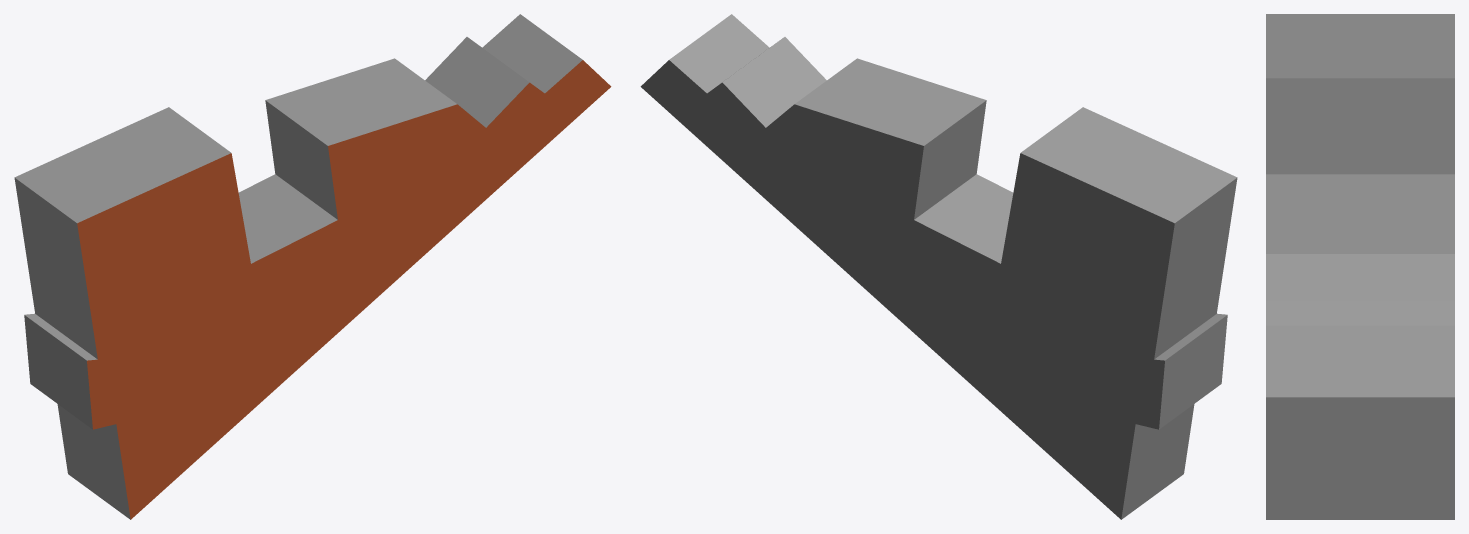
Rendered from construction_2439_assumed_A_Casa_h6m.obj.
3 renders of one model, left to right at view 1: azimuth 30°, elevation 25°; view 2: azimuth 150°, elevation 25°; view 3: azimuth 270°, elevation 25°, orthographic. The views are drawn at different scales.
Parts seen in each view (by area): view 1: construction_2439_assumed_A_Casa; view 2: construction_2439_assumed_A_Casa; view 3: construction_2439_assumed_A_Casa.
Part boxes in pixels (x1,y1,x2,y2): construction_2439_assumed_A_Casa: [14, 14, 611, 519]; construction_2439_assumed_A_Casa: [640, 14, 1237, 519]; construction_2439_assumed_A_Casa: [1266, 14, 1454, 519].
Bounding box in the file's own units: 29.53 × 18.47 × 6.
